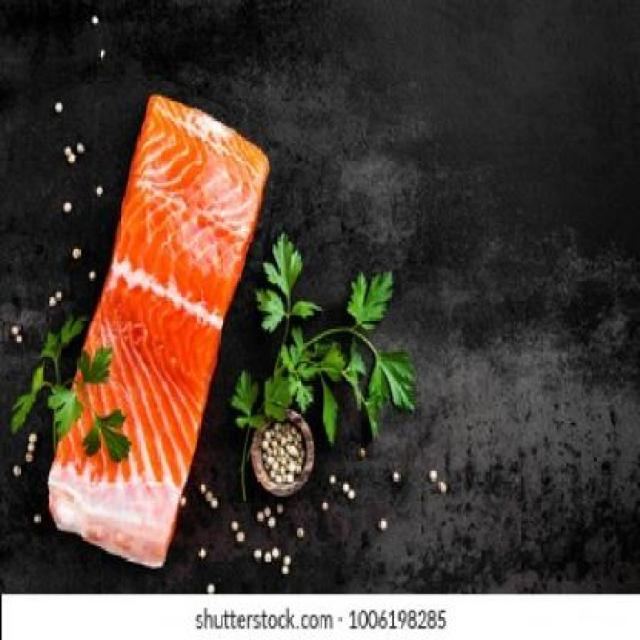salmon: (48, 83, 270, 577)
